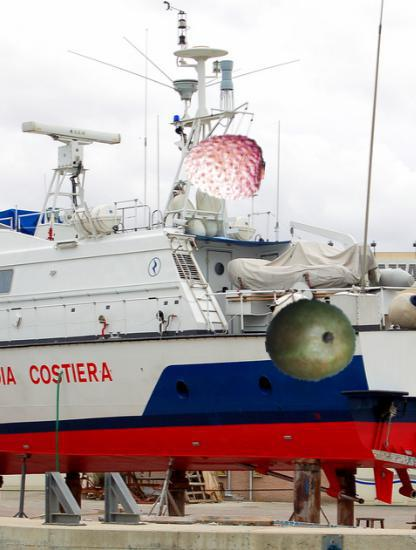Lychee: (184, 126, 265, 207)
Mango: (265, 294, 356, 385)
